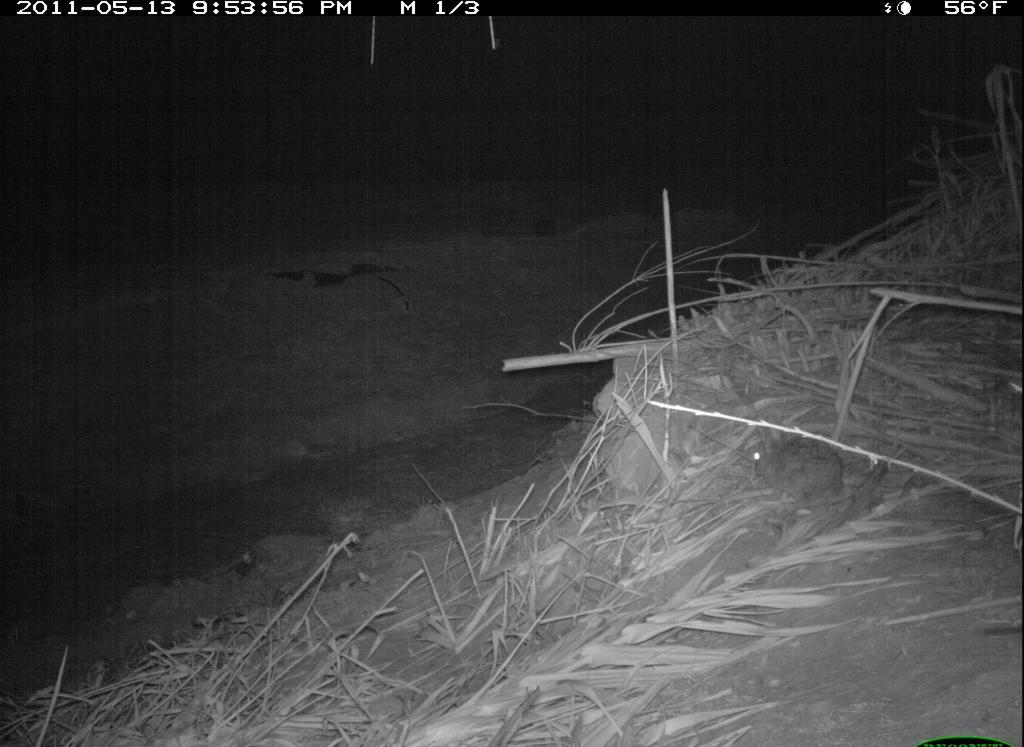rabbit: (726, 411, 859, 515)
